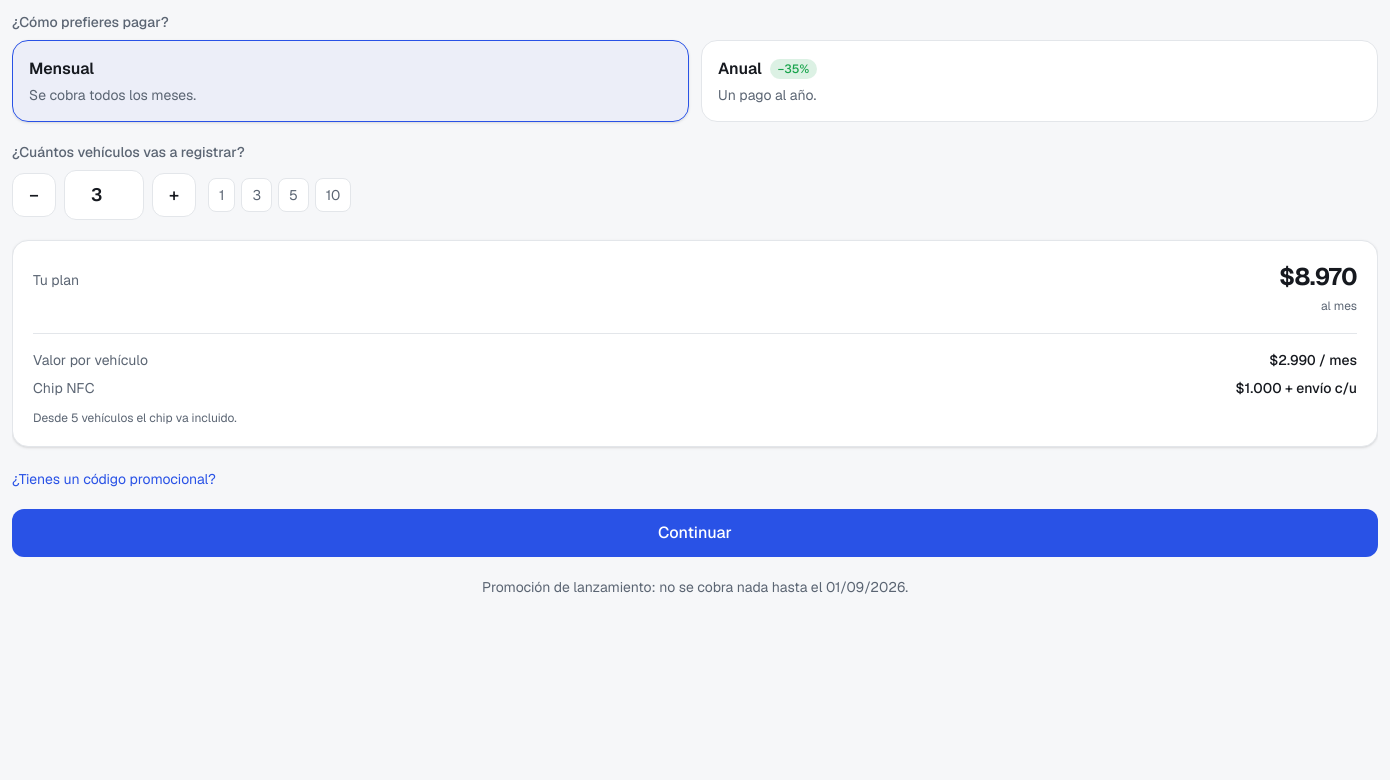
Test: SelectorPlan › si el POST responde !ok con un error genérico, muestra el mensaje genérico y el botón vuelve a estar habilitado
This screenshot has width=1390, height=780.
Click the button "Continuar".
click(695, 533)  # box [12,509,1378,557]
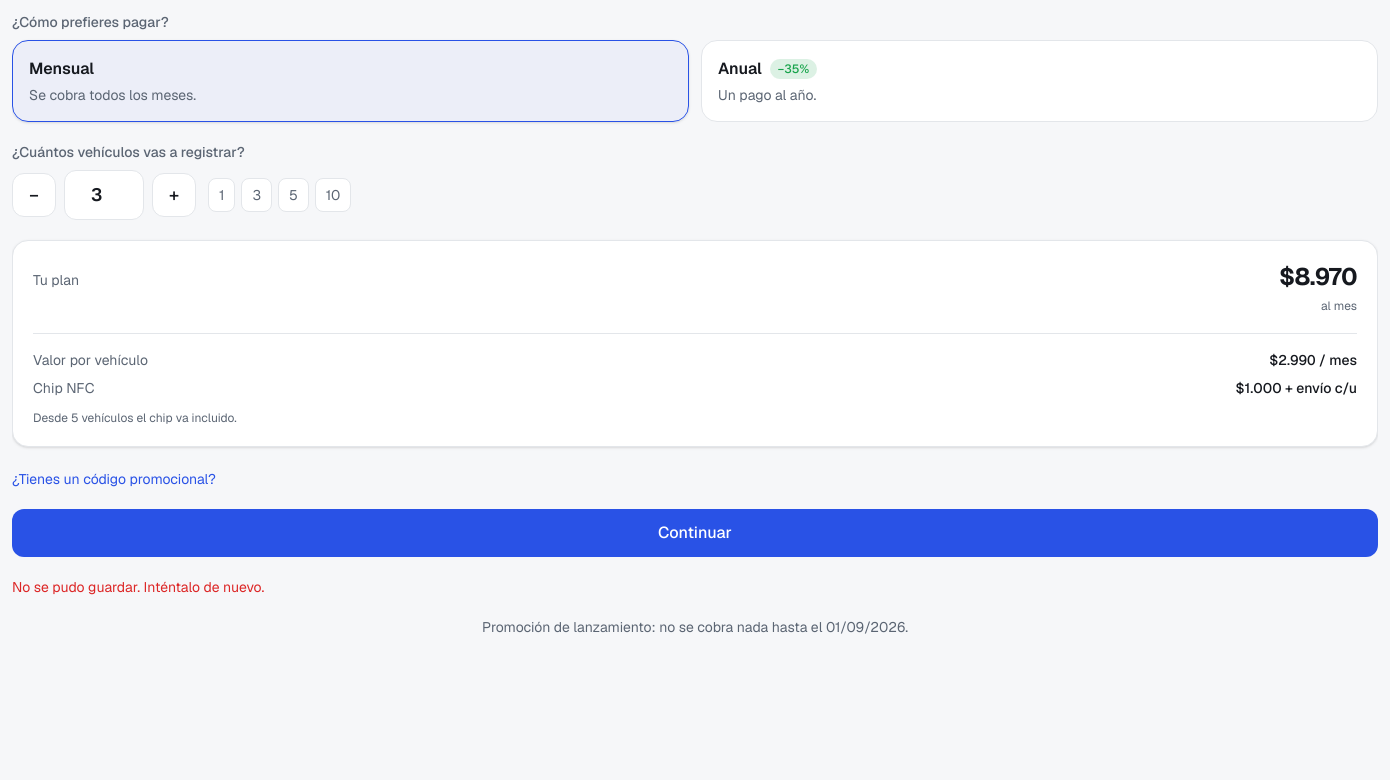
Expected: the text "No se pudo guardar. Inténtalo de nuevo." is shown, [12,578,264,596]
